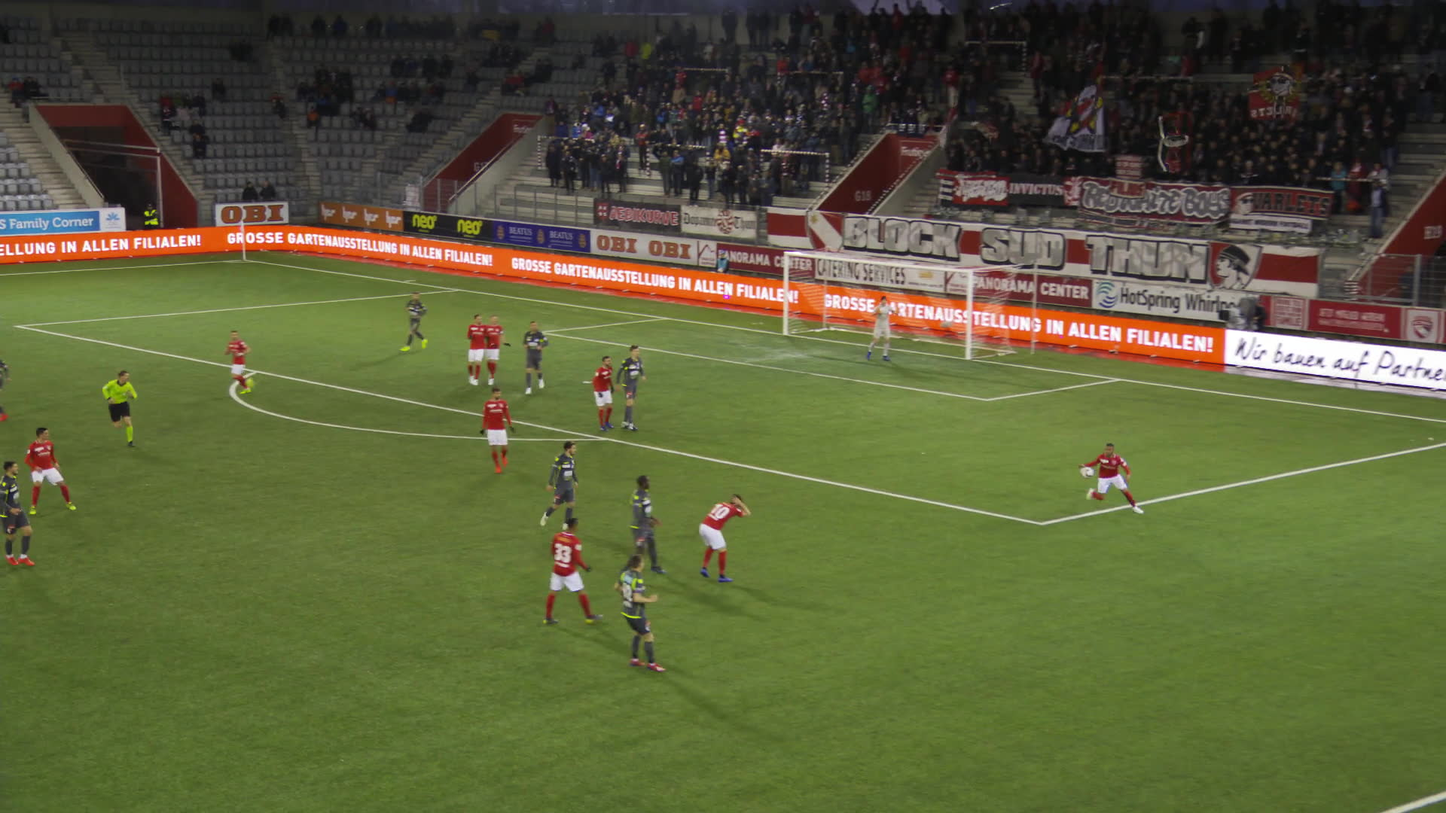ball: (1075, 464, 1091, 480)
player: (541, 515, 609, 629), (615, 554, 669, 674), (697, 492, 753, 585), (23, 421, 79, 514), (1079, 436, 1144, 514), (622, 472, 670, 577), (539, 438, 587, 534), (0, 457, 38, 568), (477, 384, 517, 477), (615, 343, 650, 434), (864, 292, 905, 365), (461, 311, 496, 387), (227, 327, 265, 395), (481, 312, 514, 384), (591, 352, 620, 433), (523, 318, 553, 395), (404, 290, 434, 352), (0, 349, 17, 423)
referee: (102, 366, 139, 447)
